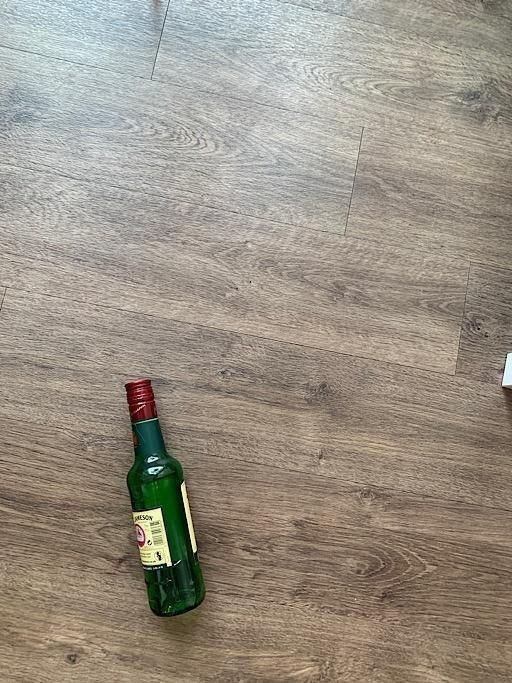bottle-glass: (123, 378, 209, 619)
